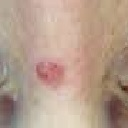Carcinoma: (34, 59, 63, 85)
